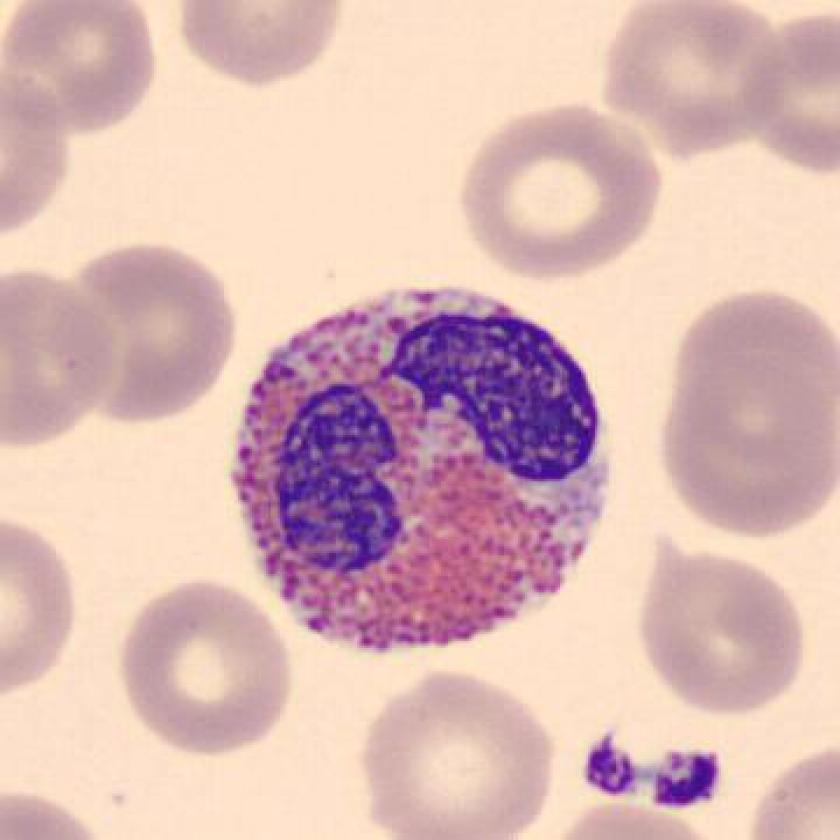eosinophil: (225, 276, 619, 670)
